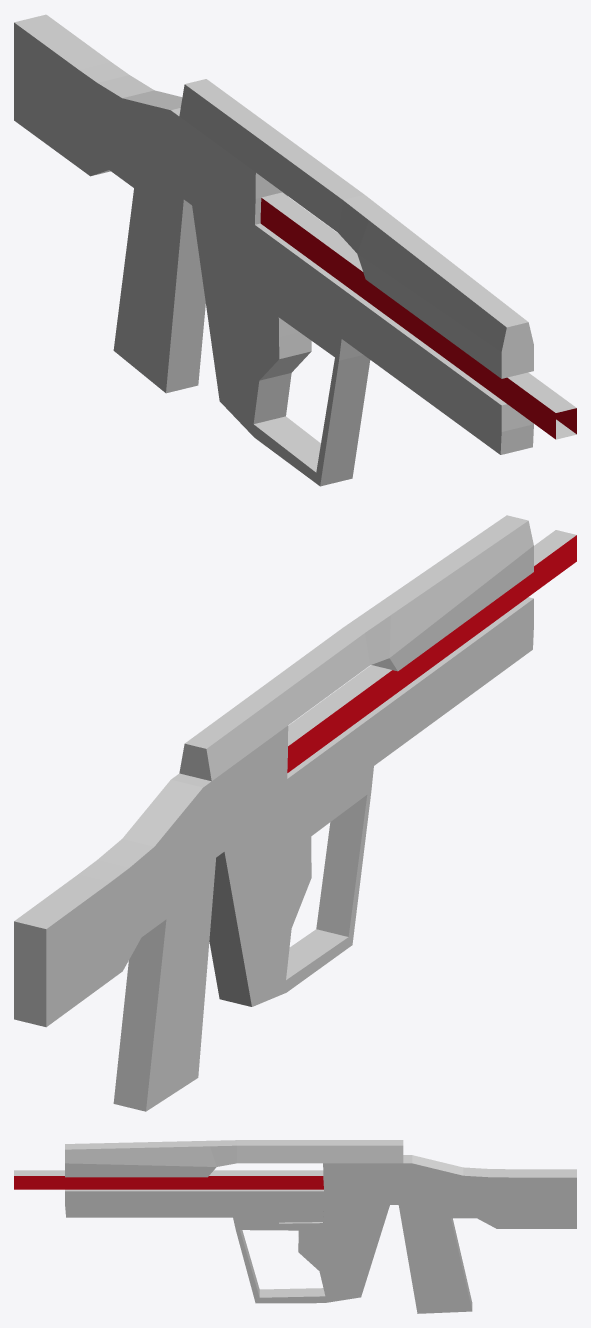
Rendered from DeformGun.fbx.
3 renders of one model, top to bottom at view 1: azimuth 30°, elevation 25°; view 2: azimuth 150°, elevation 25°; view 3: azimuth 270°, elevation 25°, orthographic. The views are drawn at different scales.
Parts seen in each view (by area): view 1: LaserGun; view 2: LaserGun; view 3: LaserGun.
Boxes of the visible parts, x1,y1,x2,y2 form: LaserGun: [14, 14, 576, 486]; LaserGun: [14, 515, 576, 1111]; LaserGun: [14, 1140, 576, 1313].
Bounding box in the file's own units: 3 × 28.15 × 86.1.
